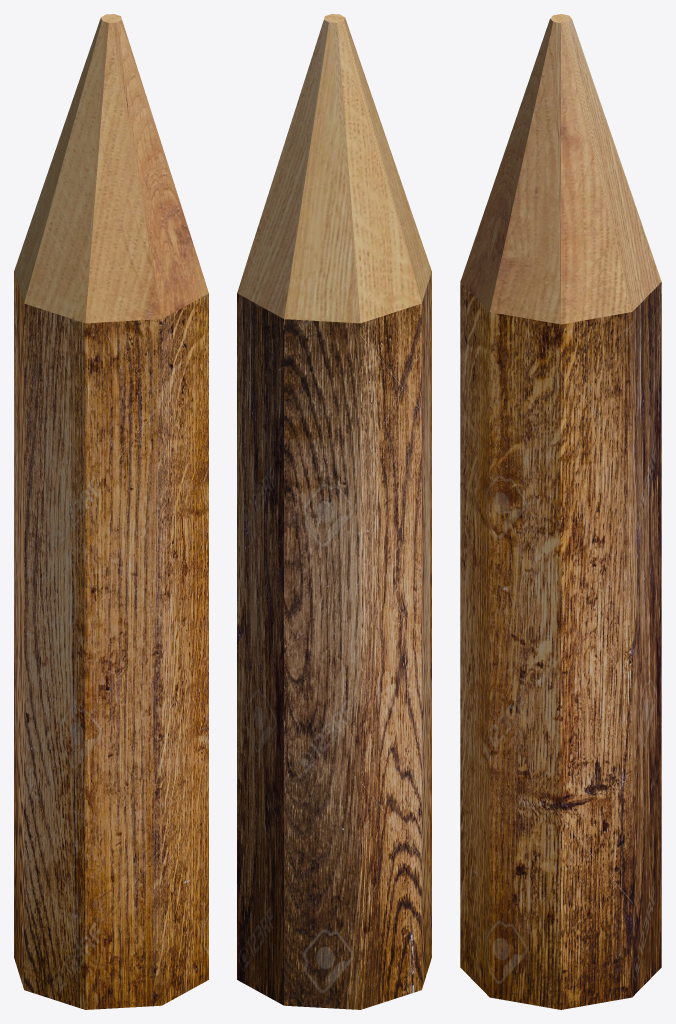
Rendered from 策作り.fbx.
The picture shows the model from 3 angles, left to right: view 1: azimuth 30°, elevation 25°; view 2: azimuth 150°, elevation 25°; view 3: azimuth 270°, elevation 25°; orthographic projection.
Parts seen in each view (by area): view 1: 円柱; view 2: 円柱; view 3: 円柱.
Part boxes in pixels (x1,y1,x2,y2): 円柱: (14, 14, 208, 1009); 円柱: (237, 14, 431, 1009); 円柱: (460, 14, 661, 1009).
Bounding box in the file's own units: 1 × 5.2 × 1.
